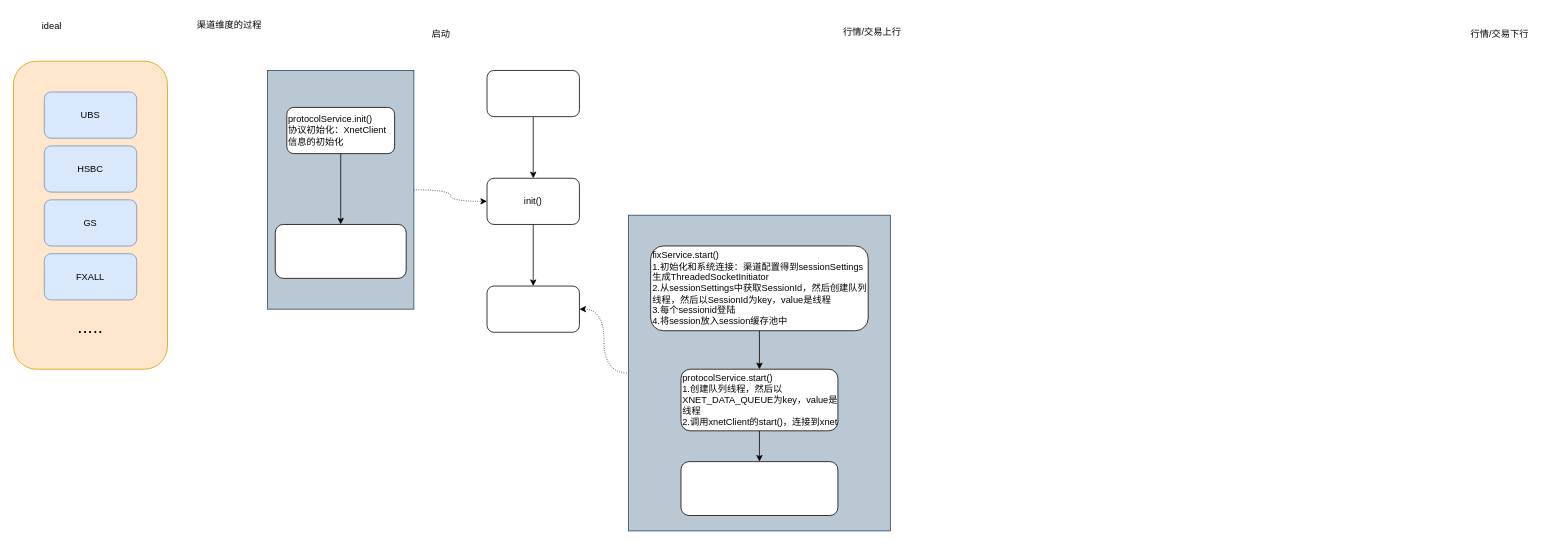
Some shapes in this 1552 by 544 pixel diagram are drawn without their labels. Here are the shapes that lost their labels. From the top down, the centre of each, then its label:
At point 532,93: "appStartServiceImpl的afterPropertiesSet()".
At point 340,251: "heartBeatRunable.start() 启动心跳检查：创建一个线程，命名心跳检测，调start()".
At point 532,308: "start()".
At point 759,488: "启动fix连接的定时登陆登出".
